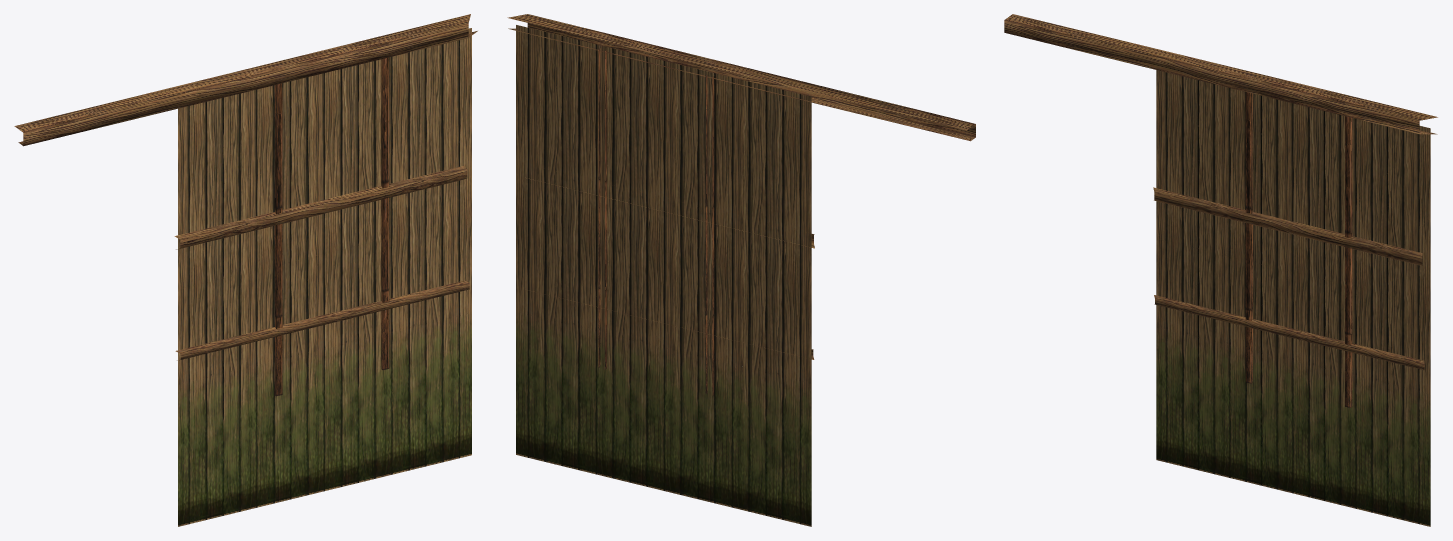
The model's file is LAKETOWN_WAREHOUSE2_PS_WH2_PLATWALL66353__GX.fbx.
3 views of the same model, side by side, from view 1: azimuth 30°, elevation 25°; view 2: azimuth 150°, elevation 25°; view 3: azimuth 330°, elevation 25° (orthographic). The views are drawn at different scales.
Parts seen in each view (by area): view 1: LAKETOWN_WAREHOUSE2_PS_WH2_PLATWALL66353__GX; view 2: LAKETOWN_WAREHOUSE2_PS_WH2_PLATWALL66353__GX; view 3: LAKETOWN_WAREHOUSE2_PS_WH2_PLATWALL66353__GX.
Part boxes in pixels (x1,y1,x2,y2): LAKETOWN_WAREHOUSE2_PS_WH2_PLATWALL66353__GX: (14,14,477,526); LAKETOWN_WAREHOUSE2_PS_WH2_PLATWALL66353__GX: (507,14,975,526); LAKETOWN_WAREHOUSE2_PS_WH2_PLATWALL66353__GX: (1004,14,1437,526).
Size of the model in its own units: 168886 by 153127 by 5821.
Materials: 5 (5 with a texture image).
